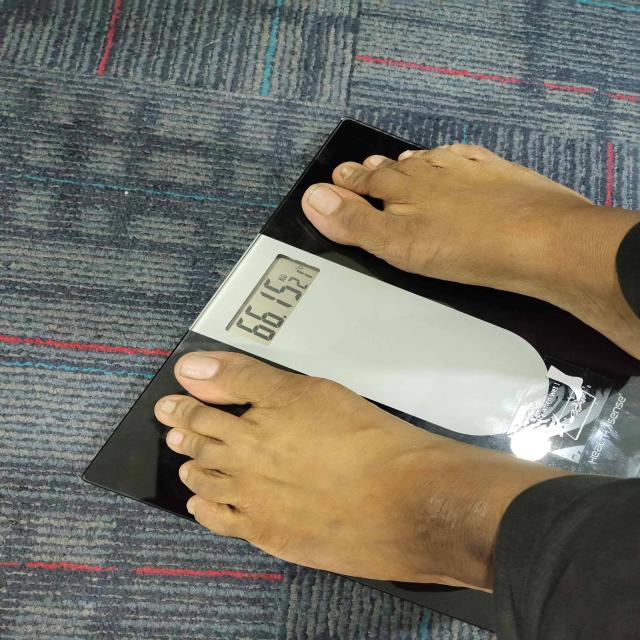ws: (183, 123, 640, 489)
